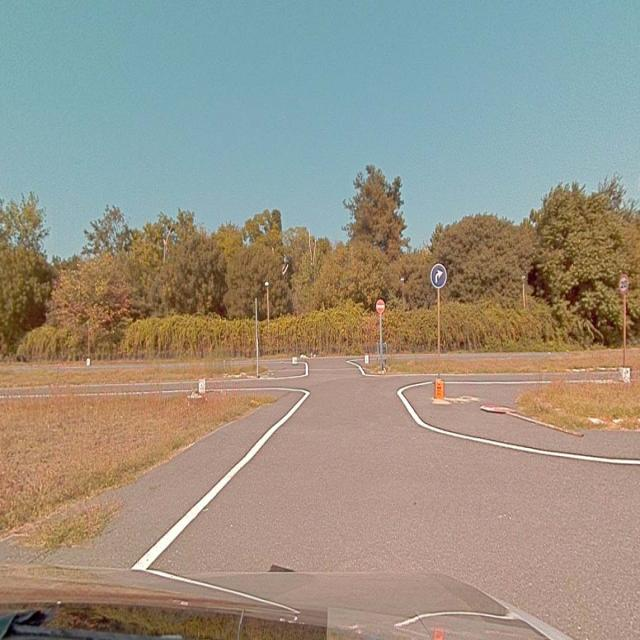20: (619, 274, 628, 292)
girisyok: (376, 300, 384, 314)
sag: (431, 265, 446, 287)
